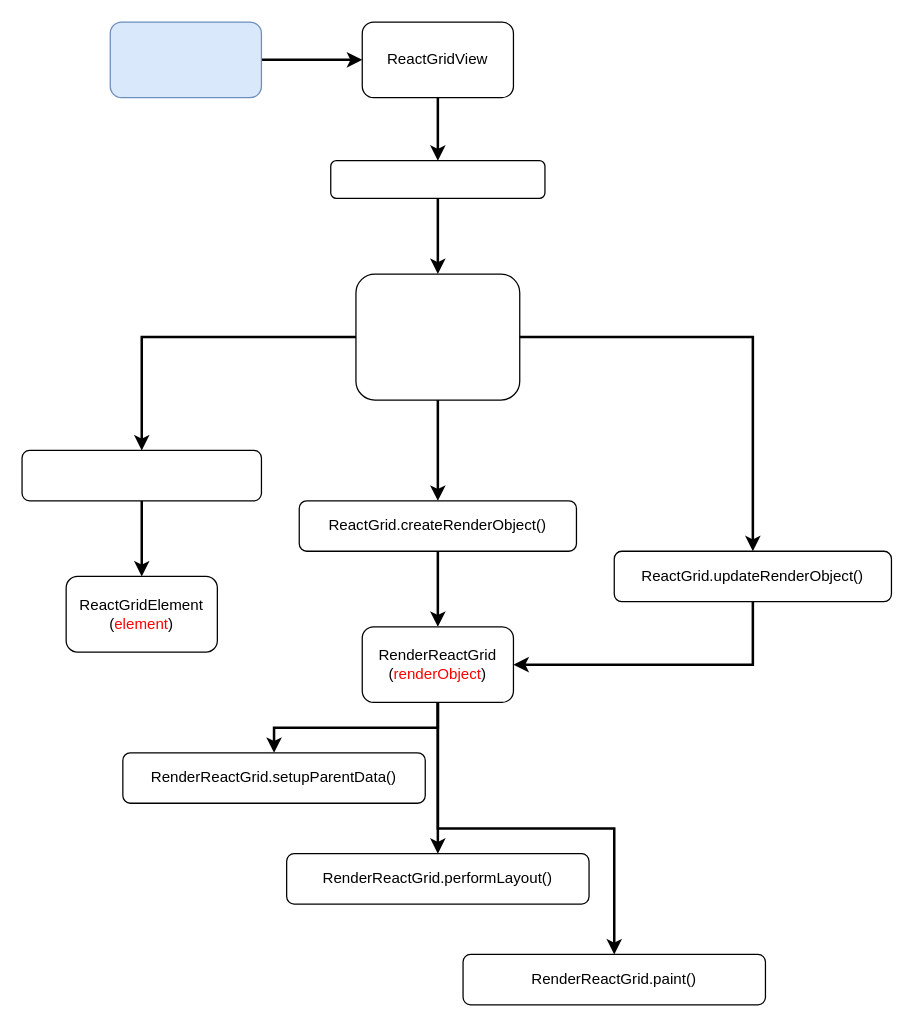
Image size: 914x1027. Some labels were removed from this diagram. The centre of each missing label's shape, as x and y in pixels:
ReactGrid.createElement(): the point at 141,475
ReactGridView.build(): the point at 437,178
ReactPositioned: the point at 185,59
SingleChildScrollView | Container | ReactGrid: the point at 437,336
